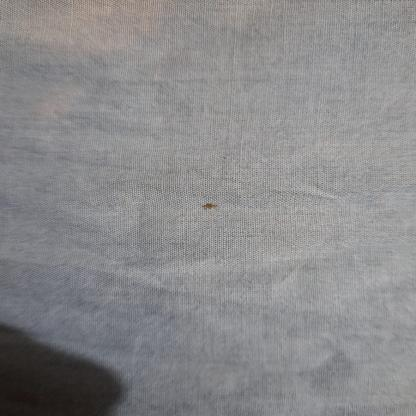spot: (194, 200, 225, 213)
